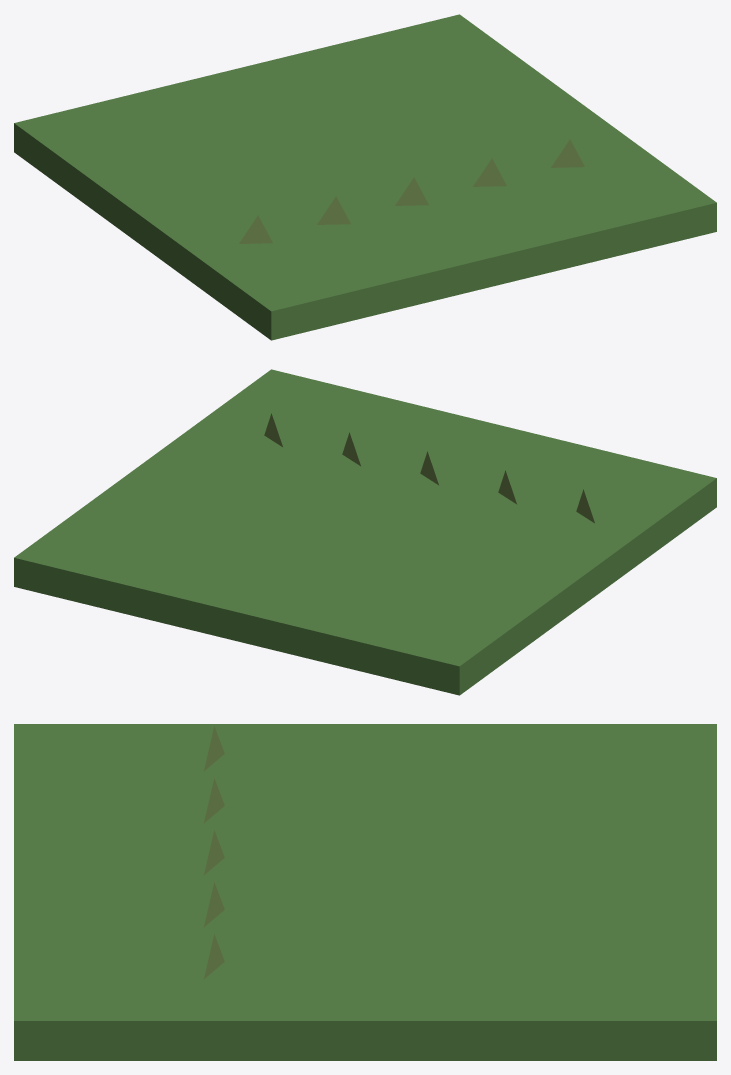
File: terrain-grass-flat.lod0.glb
3 renders of one model, top to bottom at view 1: azimuth 30°, elevation 25°; view 2: azimuth 150°, elevation 25°; view 3: azimuth 270°, elevation 25°, orthographic. The views are drawn at different scales.
Visible parts, largest first — view 1: terrain-grass-flat__body; view 2: terrain-grass-flat__body; view 3: terrain-grass-flat__body.
Boxes of the visible parts, x1,y1,x2,y2 form: terrain-grass-flat__body: (14,14,716,340); terrain-grass-flat__body: (14,369,716,695); terrain-grass-flat__body: (14,724,716,1060).
Bounding box in the file's own units: 2 × 0.245 × 2.
